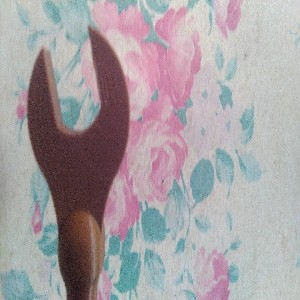spanner: (26, 23, 130, 300)
